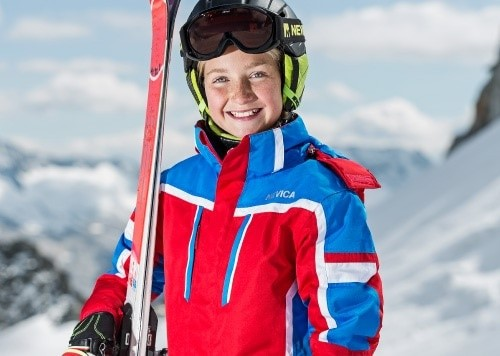face_no_mask: (196, 36, 285, 137)
